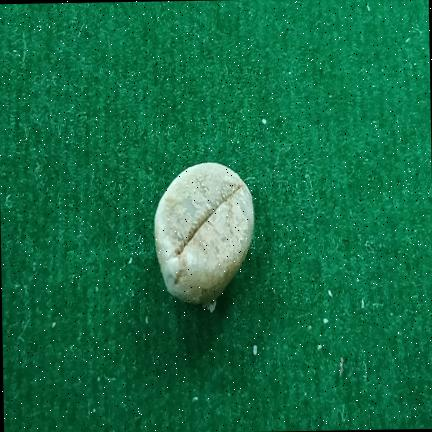good: (154, 162, 254, 305)
